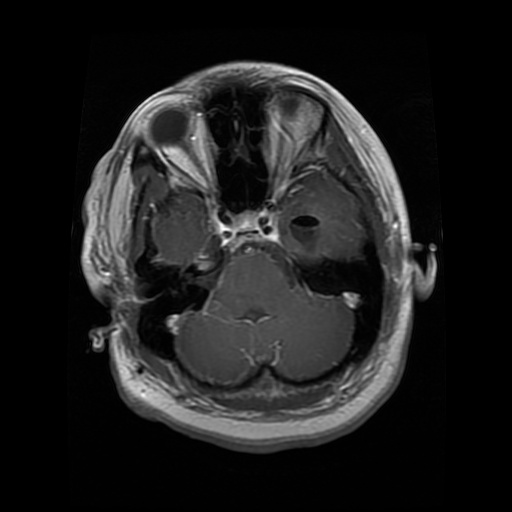glioma: (285, 215, 323, 254)
